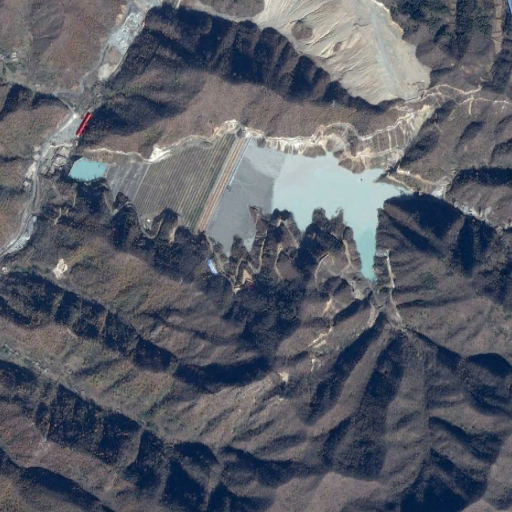tp: (105, 129, 414, 284)
